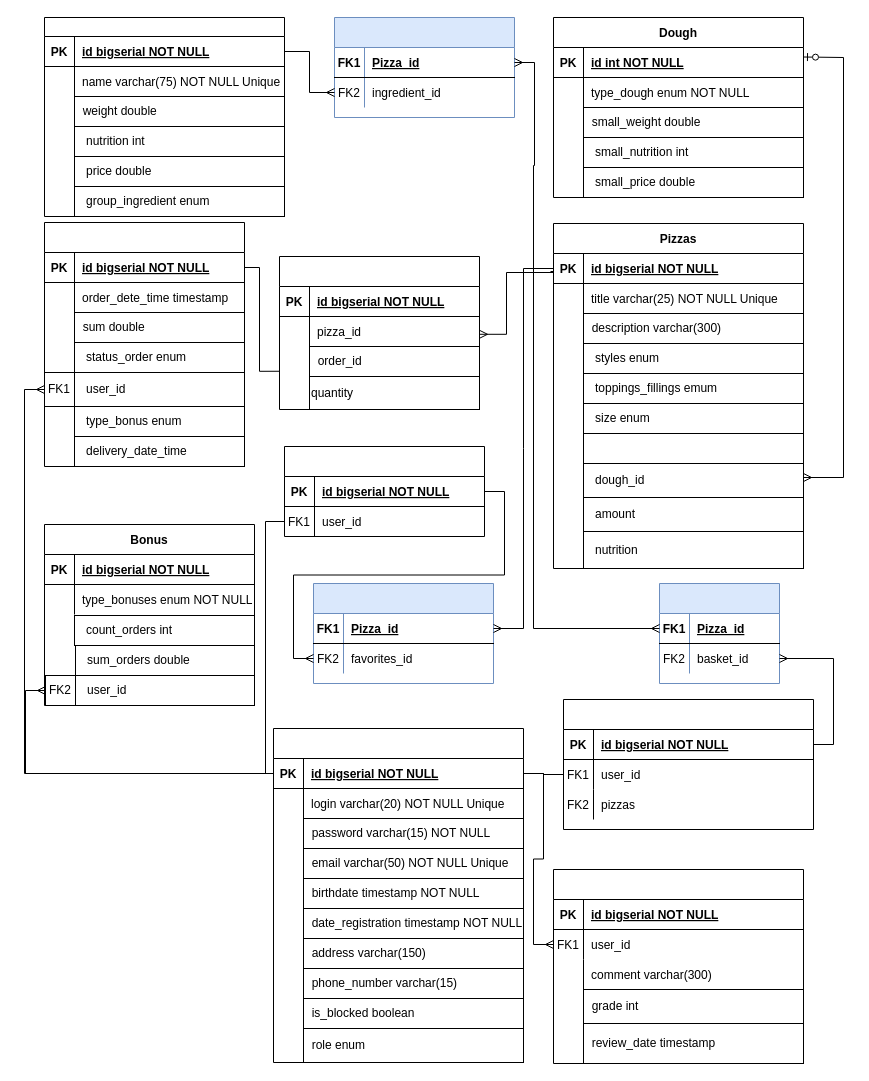
Image size: 869x1081. Some labels were removed from this diagram. The shapes that lost their labels are listed below. From the top down, each one's box as (x1, y1, x2, y2) in pixels, then its label:
(334, 16, 514, 118): Pizzas_ingredients
(44, 16, 284, 216): Ingredients
(44, 222, 244, 466): Orders
(278, 256, 480, 410): Order_details
(582, 432, 804, 468): is_standard_recipe
(284, 446, 484, 536): Favorites
(312, 582, 494, 684): Pizzas_favorites
(658, 582, 780, 684): basket_pizzas
(562, 698, 814, 830): Basket
(272, 728, 524, 1062): Users
(552, 868, 804, 1064): Reviews
